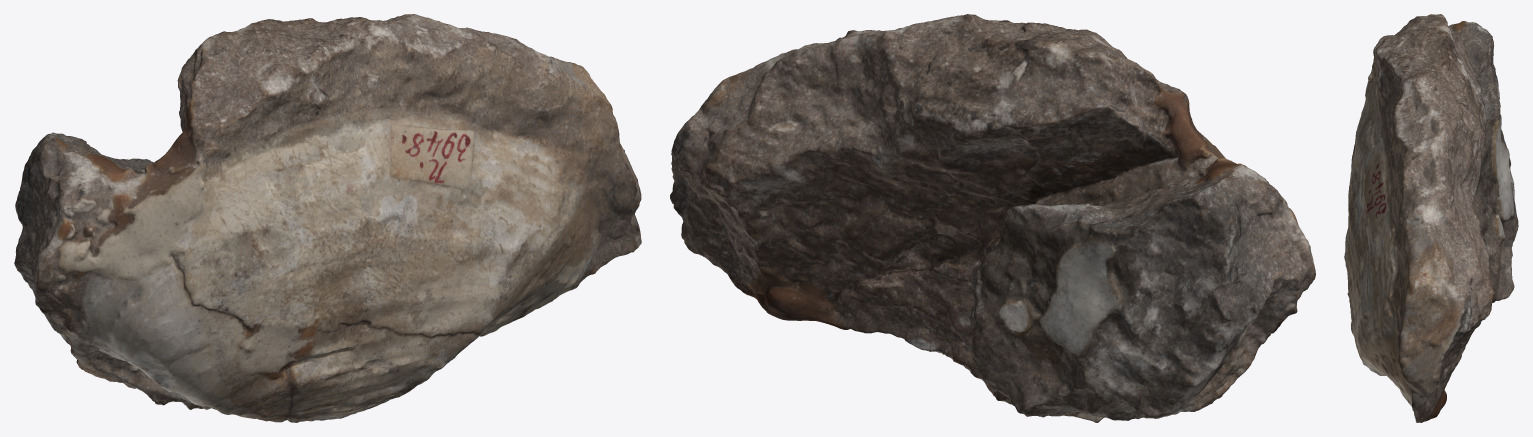
File: EWS0004015.glb
The picture shows the model from 3 angles, left to right: view 1: azimuth 30°, elevation 25°; view 2: azimuth 150°, elevation 25°; view 3: azimuth 270°, elevation 25°; orthographic projection. The views are drawn at different scales.
Visible parts, largest first — view 1: input; view 2: input; view 3: input.
Part boxes in pixels (x1,y1,x2,y2): input: (14,14,641,422); input: (670,14,1315,422); input: (1344,14,1518,422).
Bounding box in the file's own units: 0.0586 × 0.0349 × 0.0176.
1 material, 1 textured.
